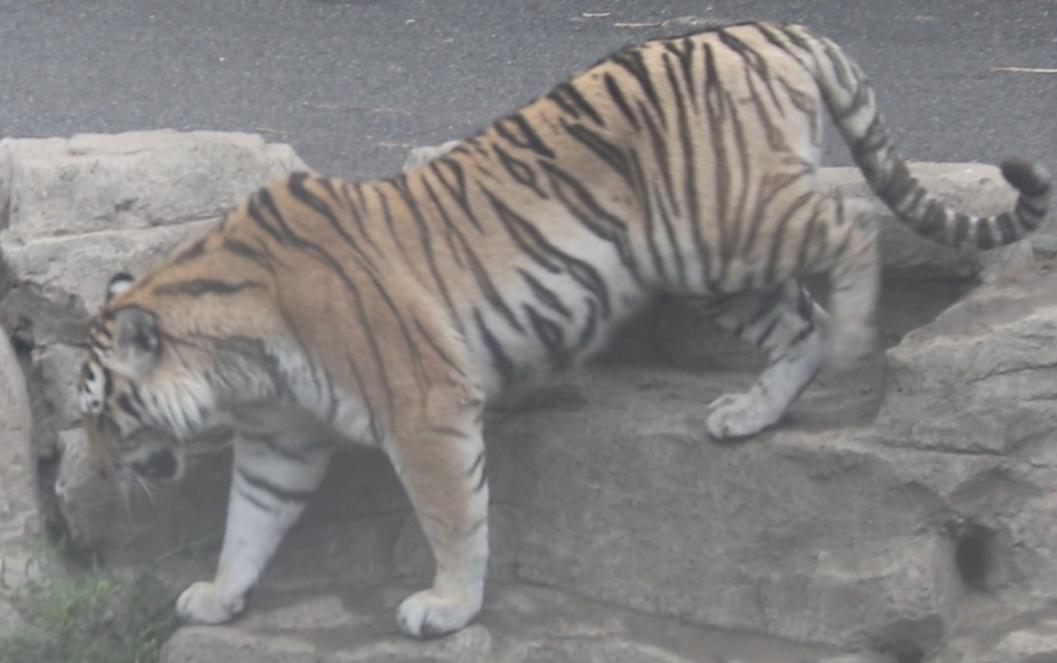tiger: (78, 22, 1051, 634)
